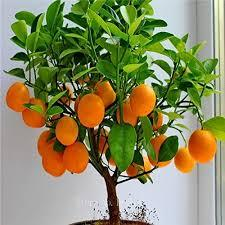orange: (33, 112, 95, 171), (3, 82, 48, 130), (37, 146, 96, 178), (183, 122, 225, 162), (131, 77, 165, 114), (81, 90, 108, 129), (155, 135, 179, 169)
